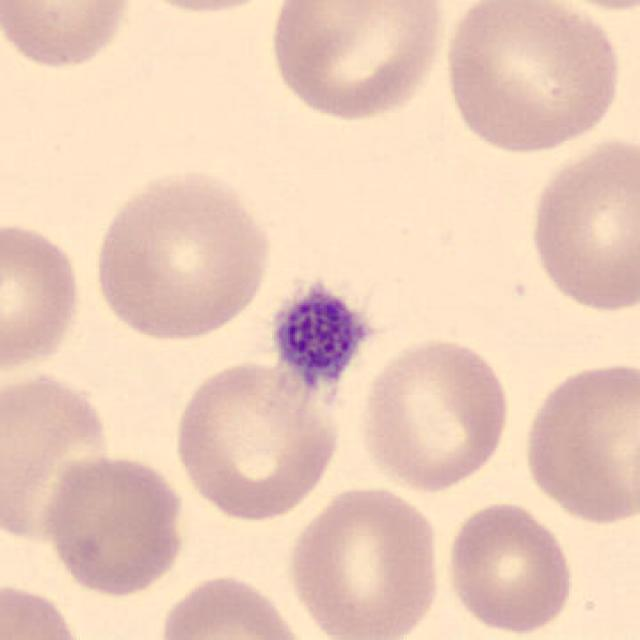Platelets: (265, 278, 375, 395)
RBC: (87, 164, 277, 346), (169, 356, 347, 526), (437, 0, 626, 157), (354, 332, 514, 496), (283, 482, 446, 638), (265, 0, 451, 125), (39, 450, 189, 600), (0, 361, 117, 550), (524, 132, 638, 318), (518, 354, 638, 529), (442, 497, 578, 638), (0, 213, 87, 383), (153, 569, 313, 640), (0, 0, 137, 74), (0, 576, 90, 640), (117, 0, 297, 18), (528, 0, 640, 16)
